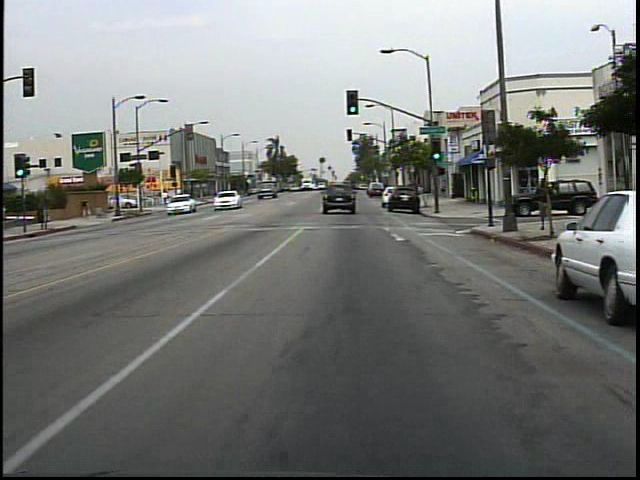person: (532, 171, 556, 238), (80, 191, 99, 220), (161, 186, 171, 209)
